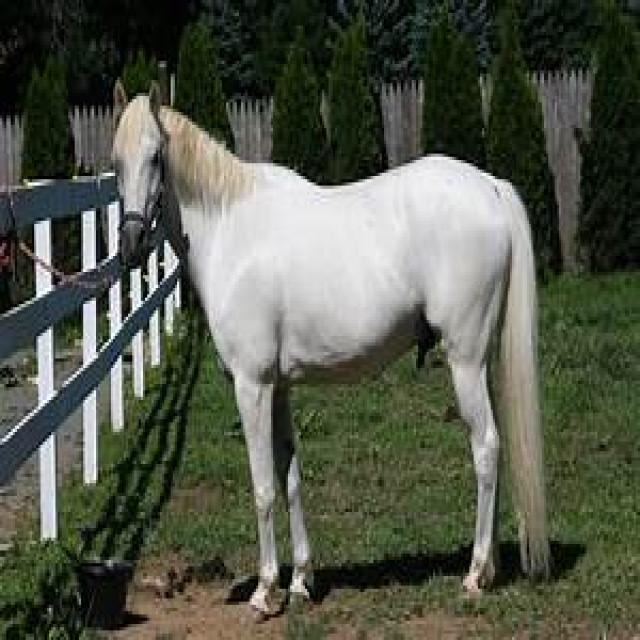horse: (107, 77, 552, 618)
